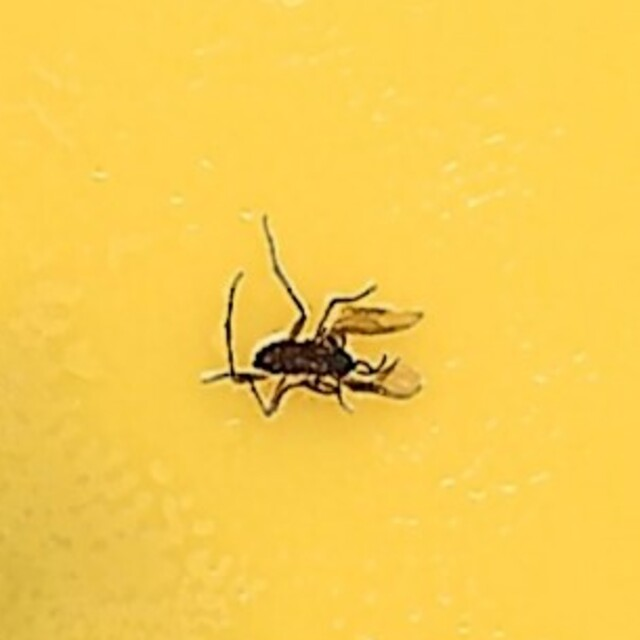Nematocera: (210, 220, 430, 420)
